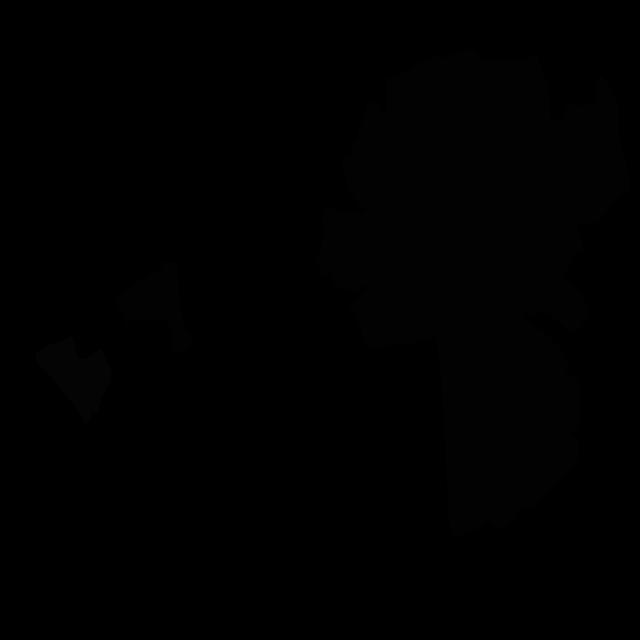cardboard: (316, 48, 591, 538), (530, 76, 629, 279), (114, 262, 193, 356)
soft_plastic: (36, 336, 111, 424)
